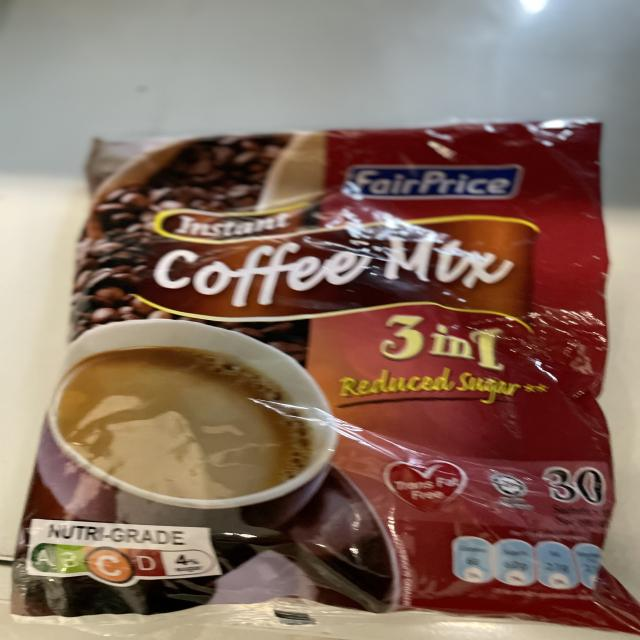object_name: (74, 145, 601, 619)
